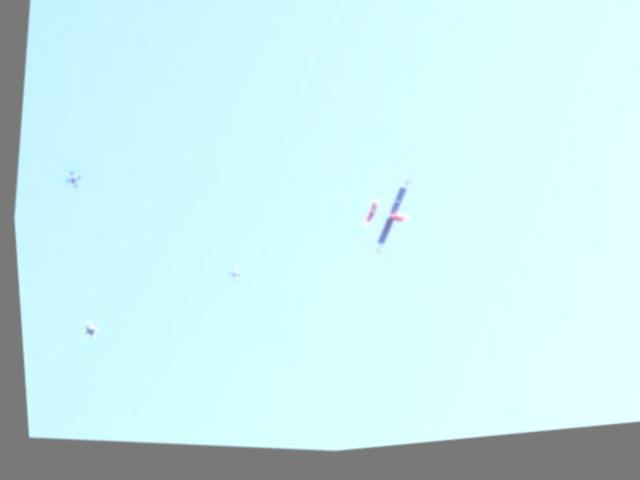uav: (338, 171, 432, 273)
